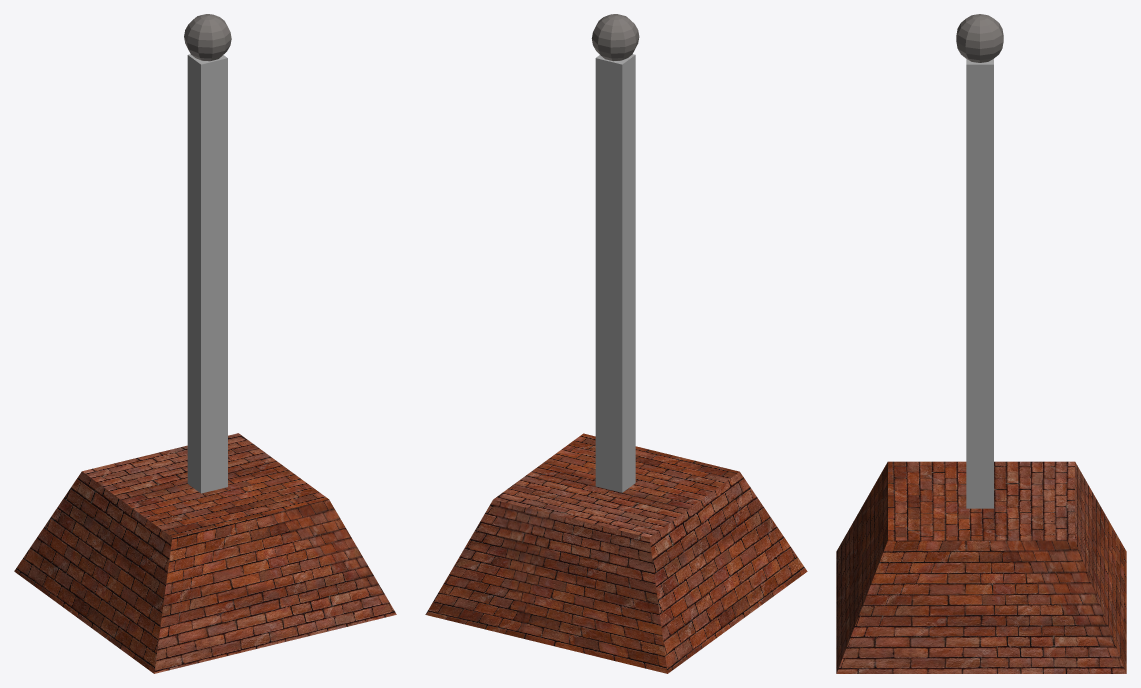
File: flag pole.fbx
3 views of the same model, side by side, from view 1: azimuth 30°, elevation 25°; view 2: azimuth 150°, elevation 25°; view 3: azimuth 270°, elevation 25° (orthographic). The views are drawn at different scales.
Parts seen in each view (by area): view 1: pCube1, pSphere1; view 2: pCube1, pSphere1; view 3: pCube1, pSphere1.
Part boxes in pixels (<box>): pCube1: <box>14,54,396,673</box>; pSphere1: <box>184,14,231,61</box>; pCube1: <box>425,54,807,673</box>; pSphere1: <box>591,14,639,61</box>; pCube1: <box>836,59,1126,673</box>; pSphere1: <box>956,14,1003,62</box>.
Size of the model in its own units: 5.18 by 11.77 by 5.18.
1 material, 1 textured.
